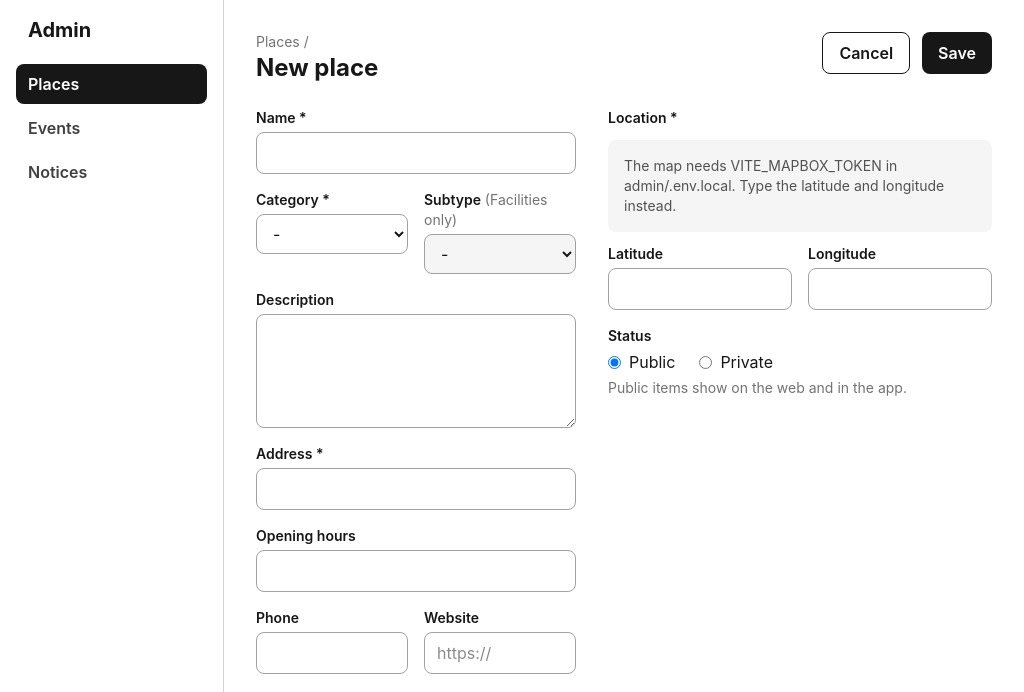
Test: a new place checks the required fields before sending anything
The image size is (1024, 692).
Click the button "Save": (957,53) [922,32,992,74]
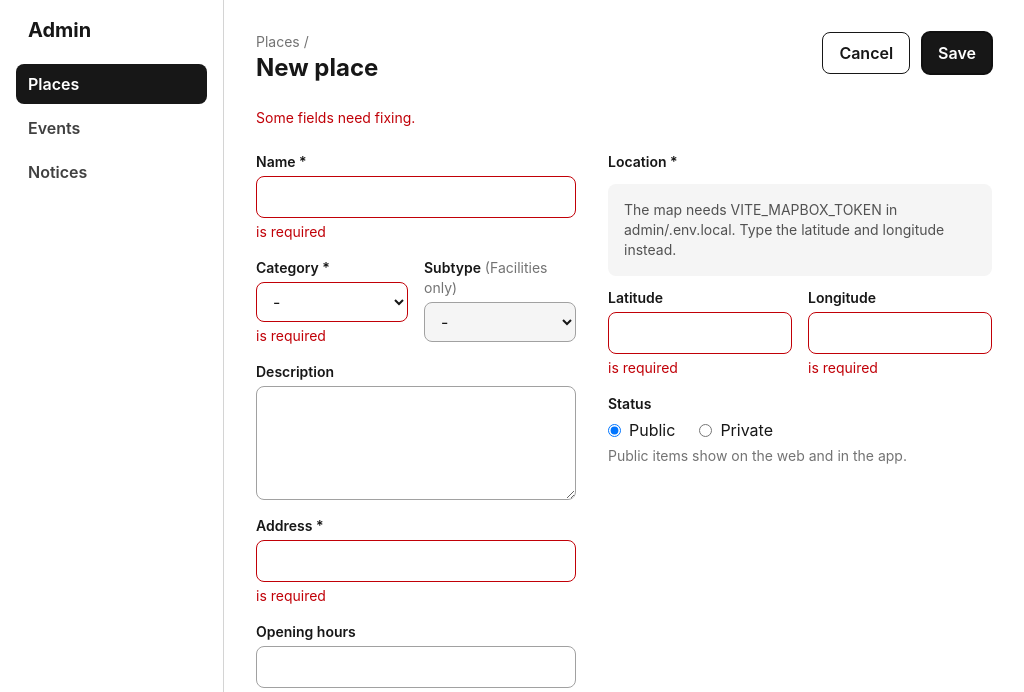
Result: the message reads "Some fields need fixing." at [256,109,415,126]
